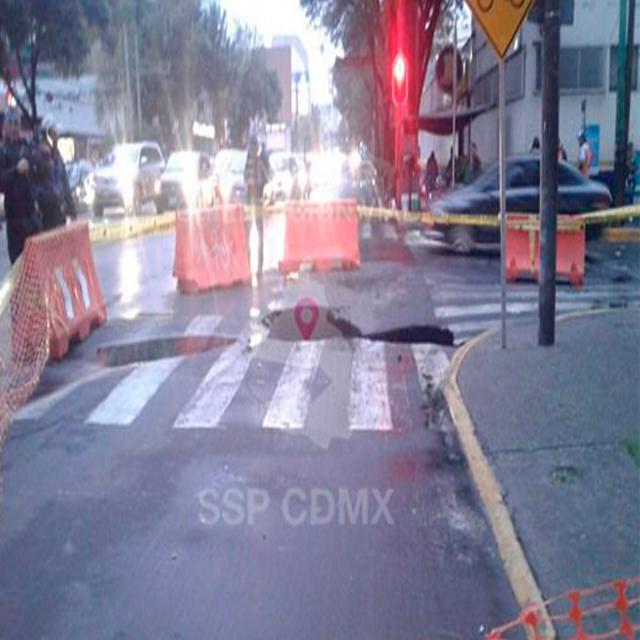Pothole: (97, 304, 498, 406)
